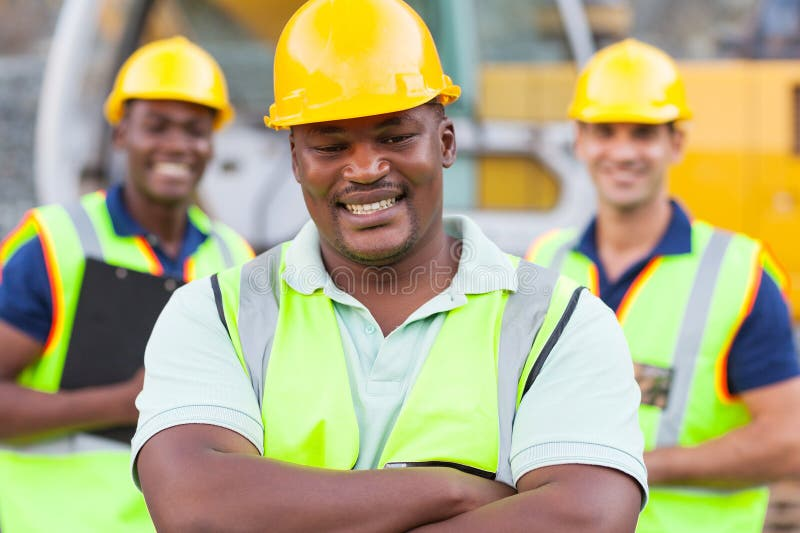face: (284, 129, 471, 255), (111, 105, 222, 199), (572, 121, 692, 202)
hat: (256, 1, 466, 118), (90, 34, 242, 126), (558, 39, 703, 125)
jacket: (213, 244, 578, 483), (547, 224, 794, 533), (8, 195, 158, 533)
